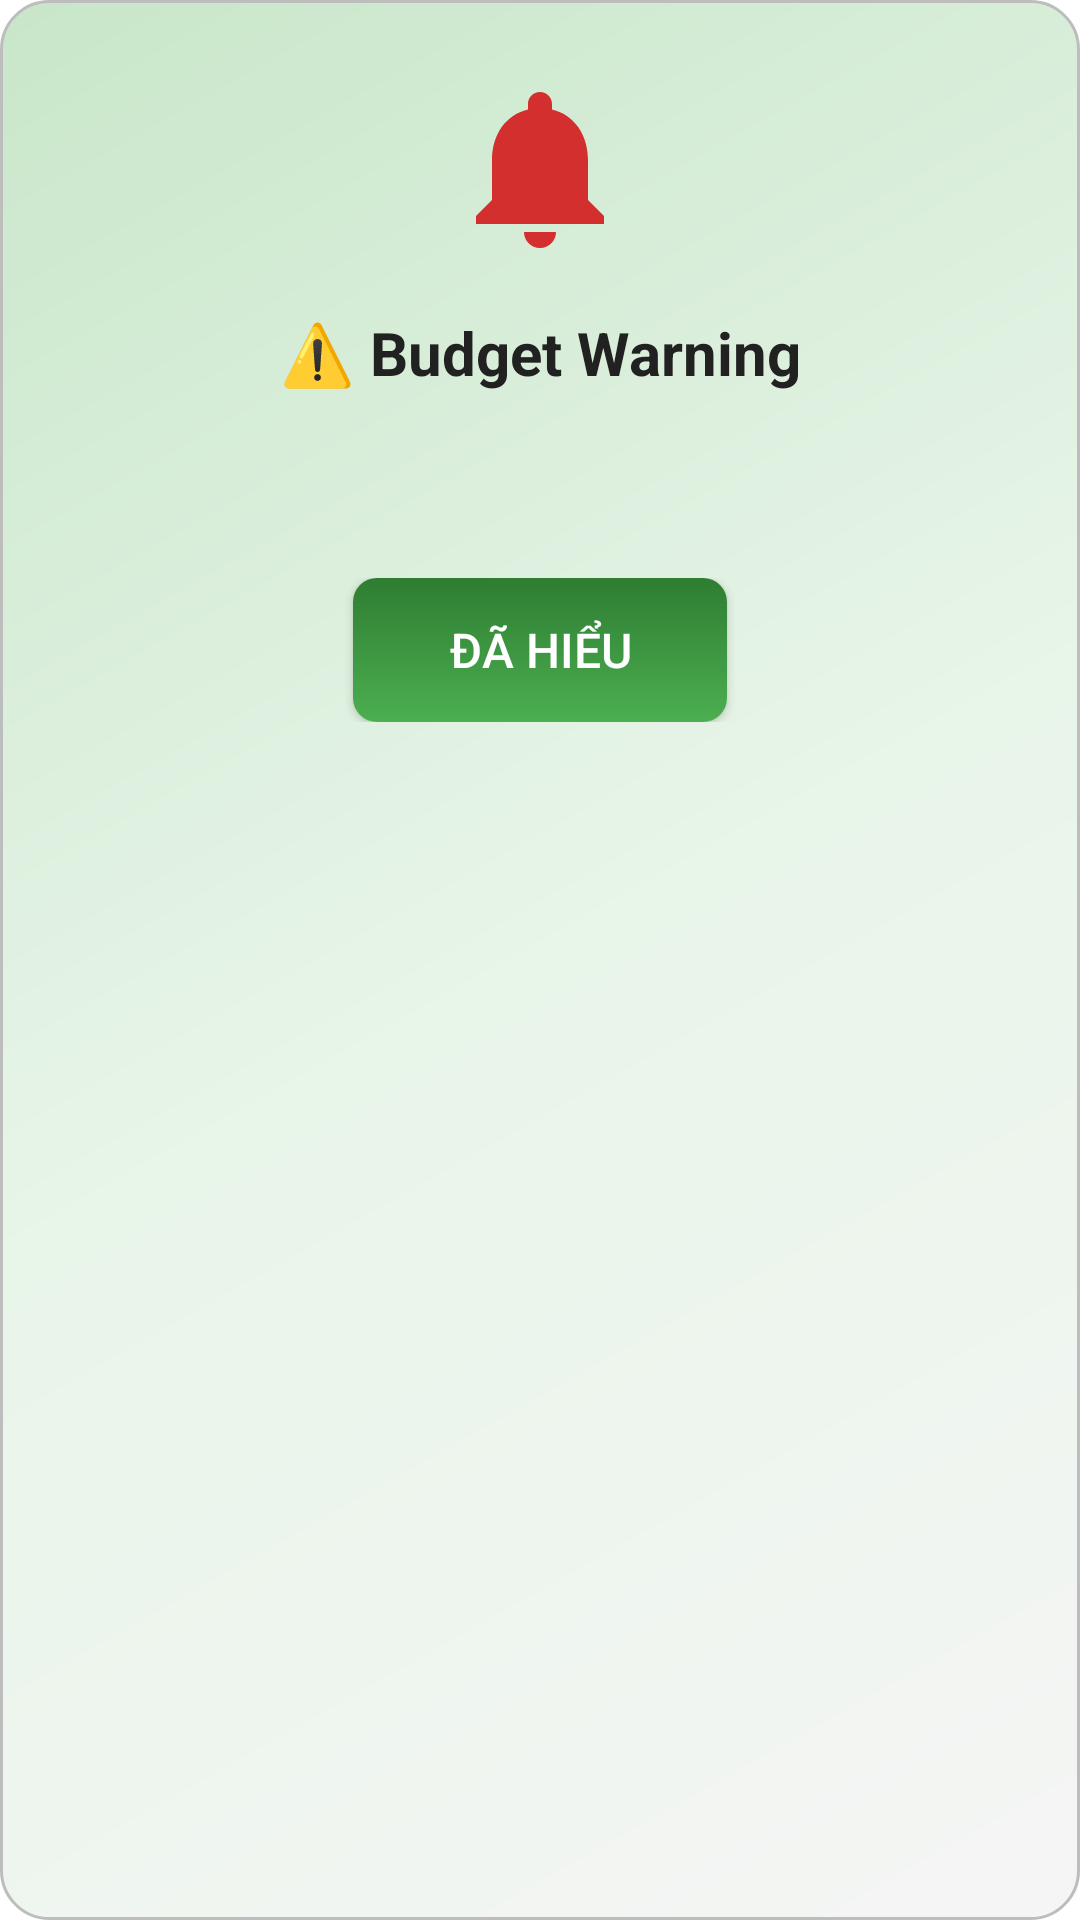

Screen size 1080 × 1920. Icon name, then its box in pixels as box(x1, y1, x2, y2):
notification warning: box(476, 92, 604, 248)
